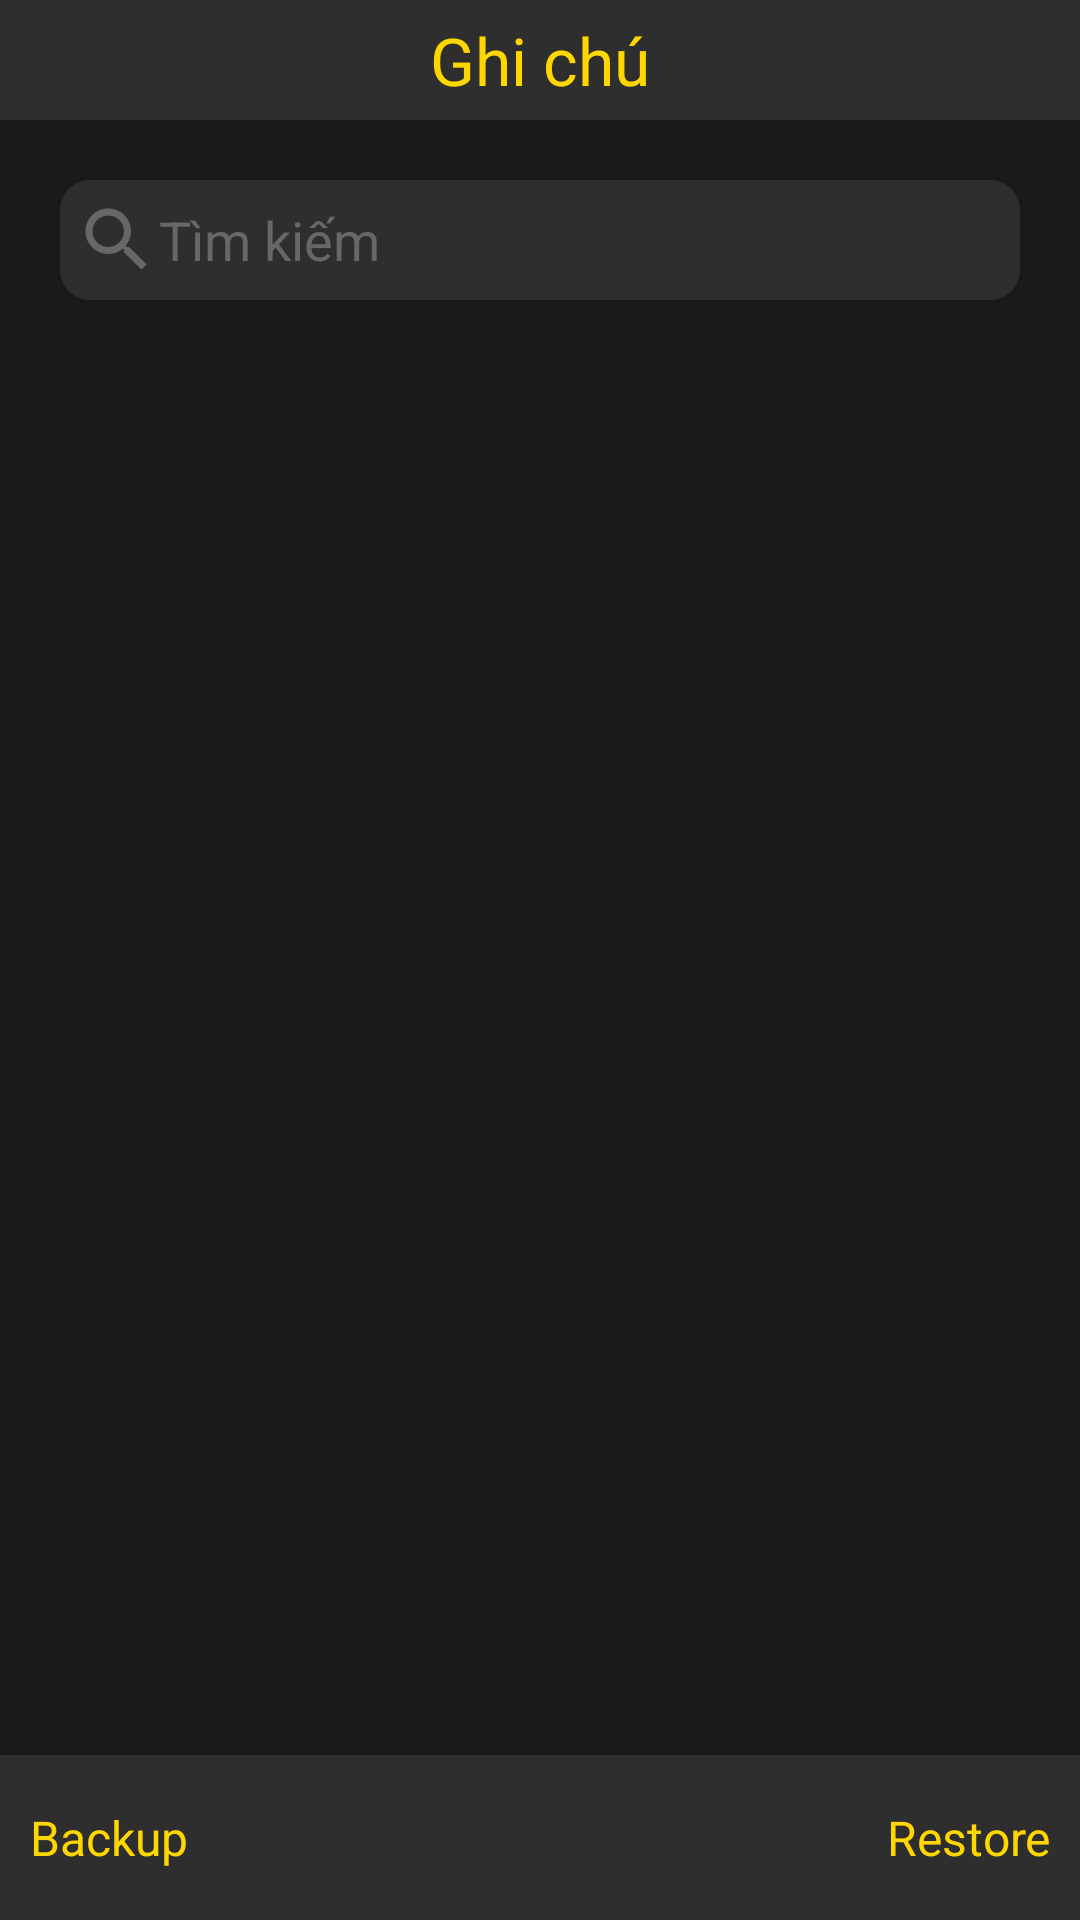

Icon click points for this 1080w x 1920h phone screenshot, format (x,y):
search: (115,238)
